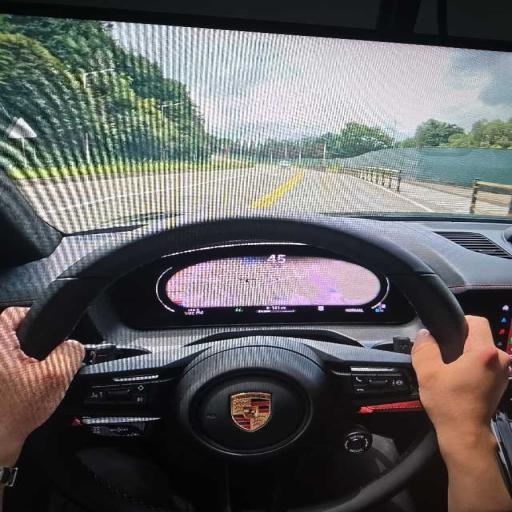car: (0, 6, 511, 511), (278, 160, 291, 168)
lane: (18, 165, 470, 232)
person: (412, 317, 511, 511)
